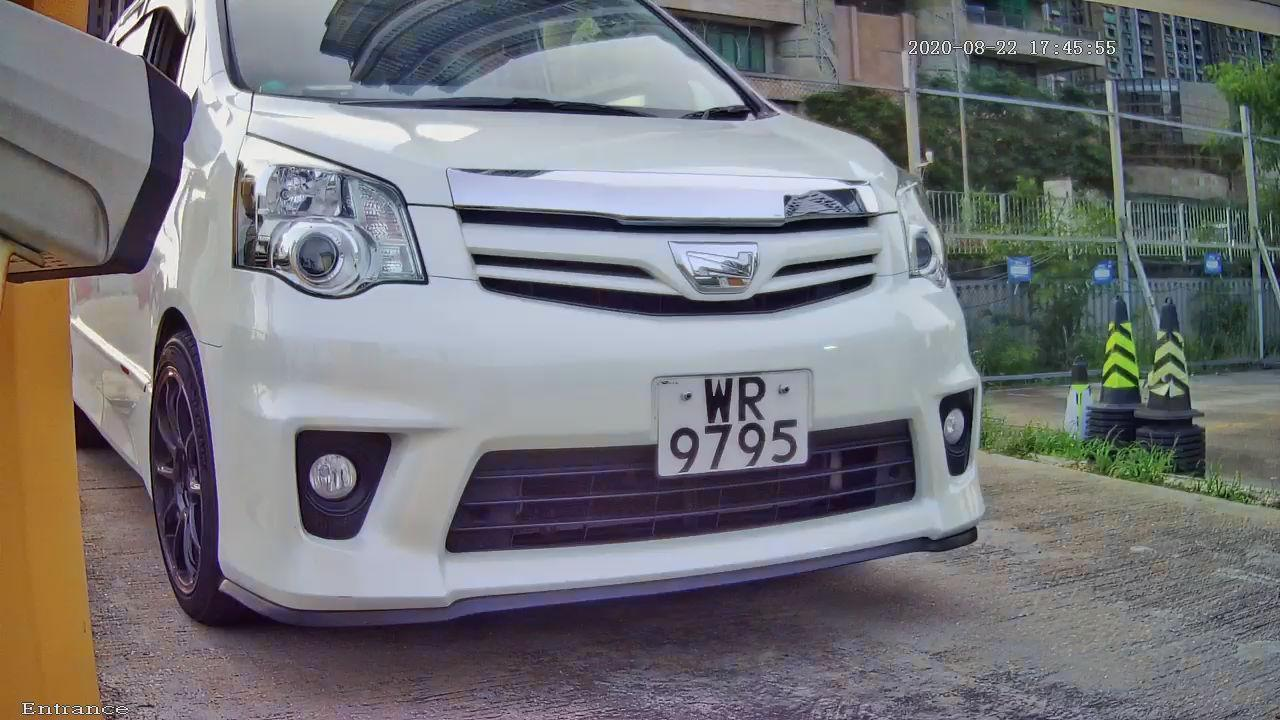Car: (58, 1, 1058, 669)
License Plate: (635, 351, 829, 495)
